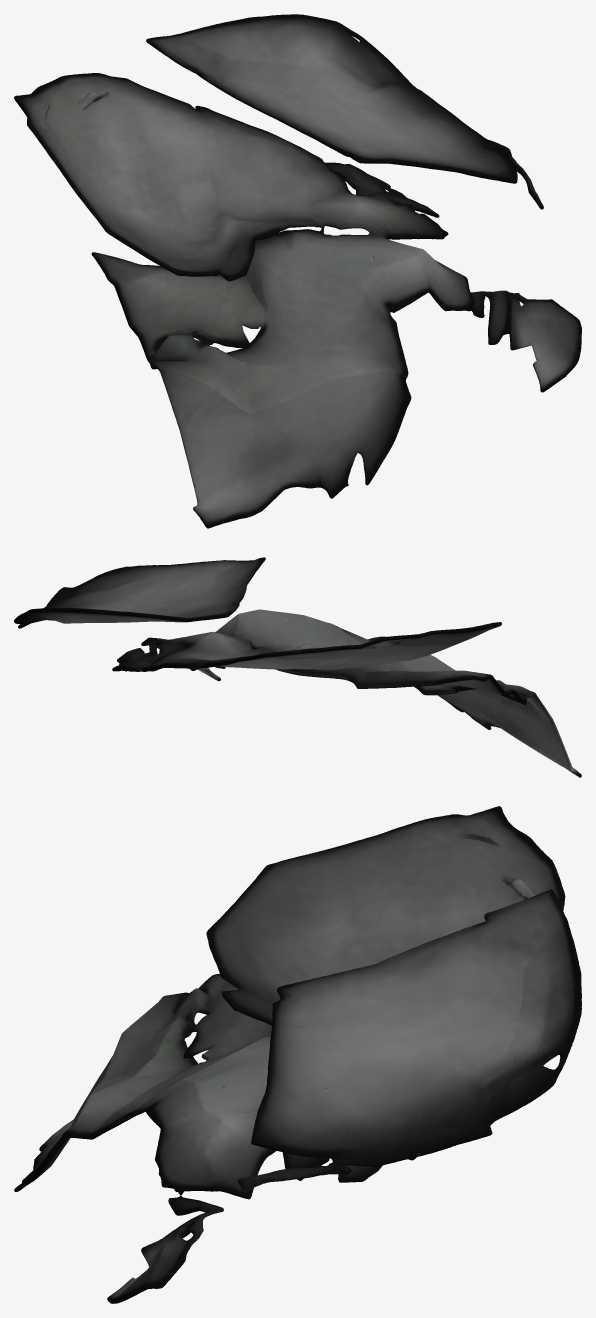
3 views of the same model, one above another, from view 1: azimuth 30°, elevation 25°; view 2: azimuth 150°, elevation 25°; view 3: azimuth 270°, elevation 25° (orthographic). The views are drawn at different scales.
Visible parts, largest first — view 1: world; view 2: world; view 3: world.
Boxes of the visible parts, x1,y1,x2,y2 form: world: (14, 14, 581, 528); world: (14, 557, 581, 777); world: (14, 806, 581, 1303).
Bounding box in the file's own units: 0.18 × 0.1157 × 0.1779.
1 material, 1 textured.
